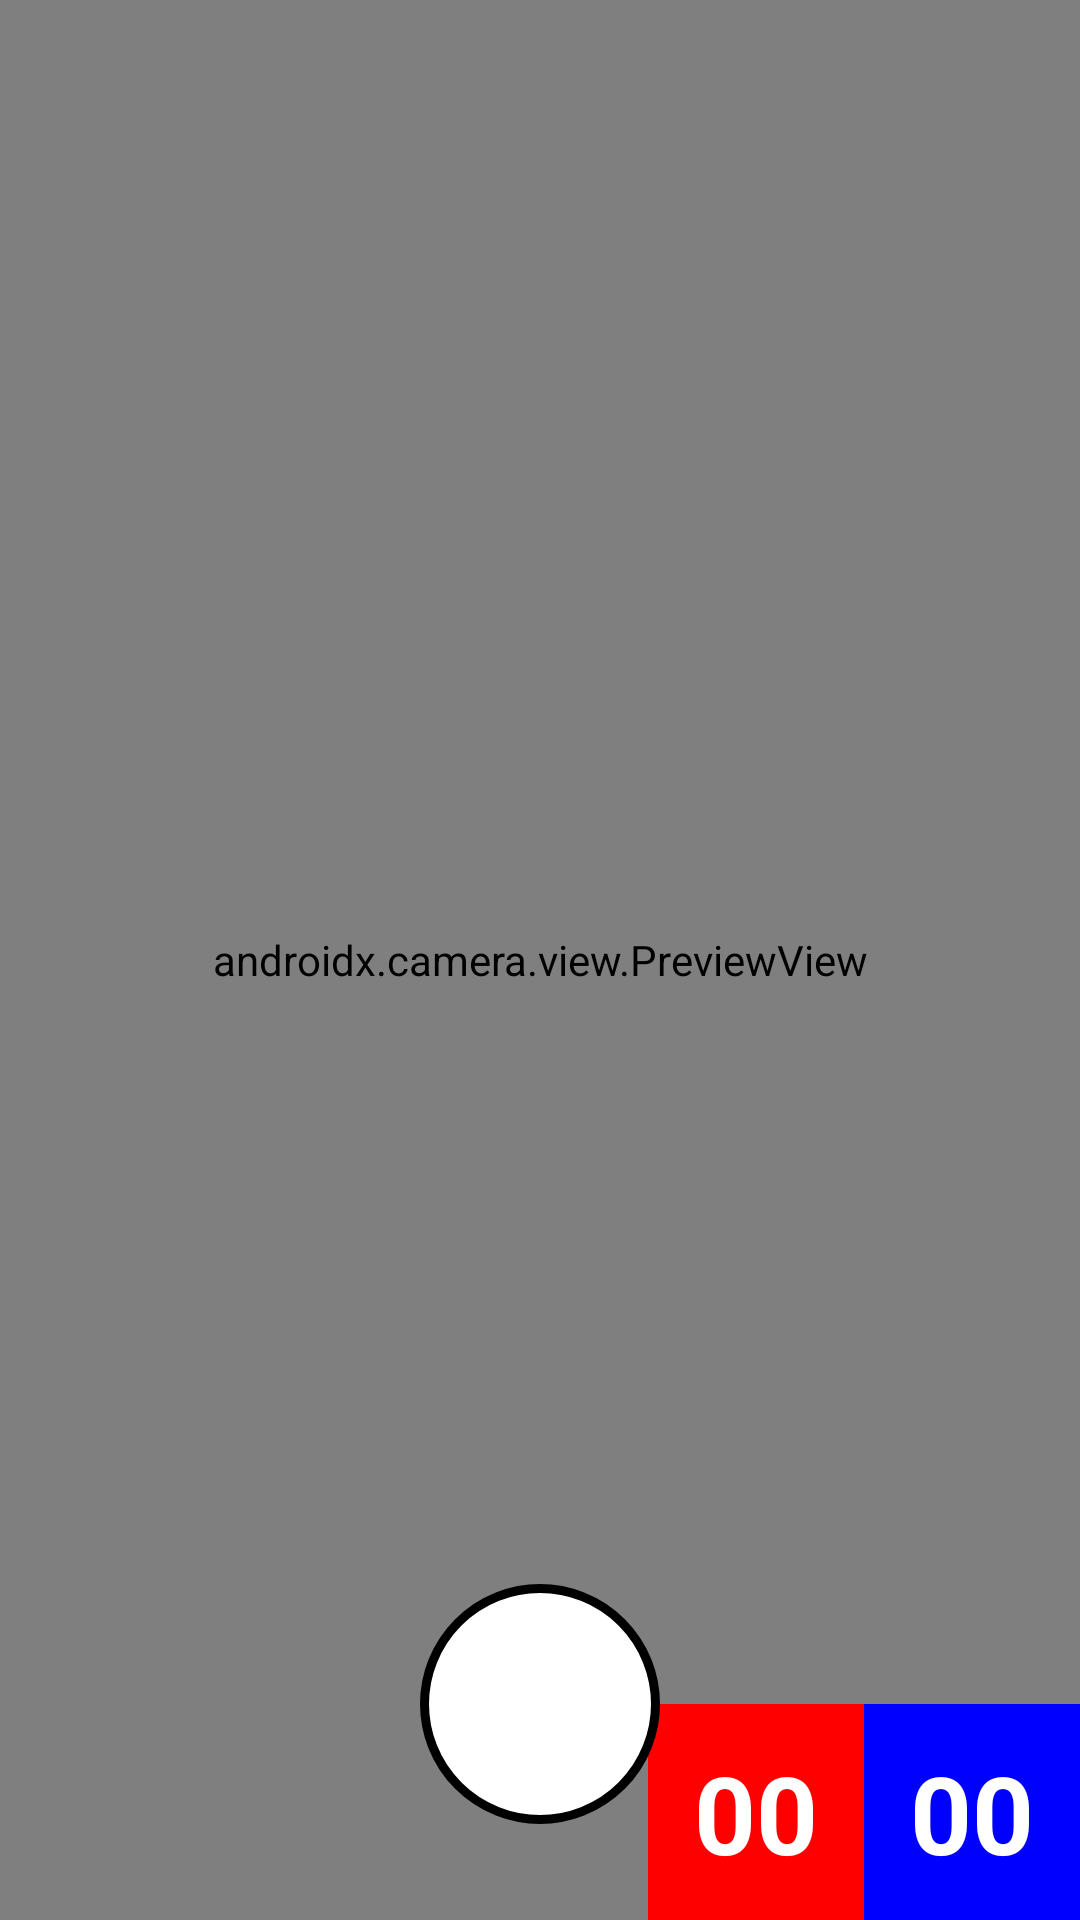

Screen size 1080 x 1920. Icon name, then its center in pixels as point (x, y):
Capture Photo: point (540, 1704)
